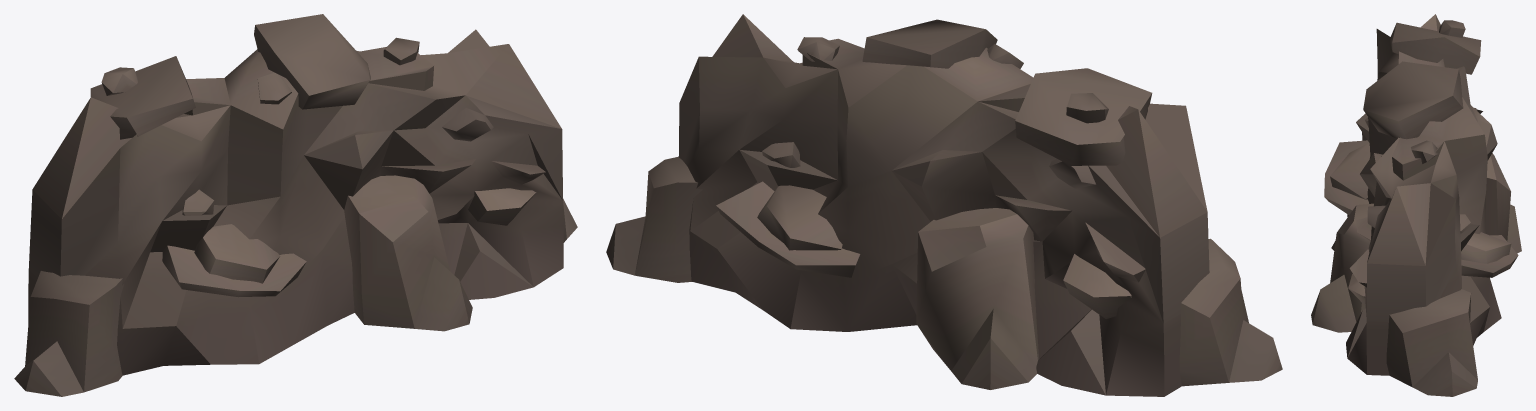
File: rubble_large.glb
3 renders of one model, left to right at view 1: azimuth 30°, elevation 25°; view 2: azimuth 150°, elevation 25°; view 3: azimuth 270°, elevation 25°, orthographic. The views are drawn at different scales.
Parts seen in each view (by area): view 1: rubble_large; view 2: rubble_large; view 3: rubble_large.
Boxes of the visible parts, x1,y1,x2,y2 form: rubble_large: (14, 14, 577, 396); rubble_large: (606, 14, 1282, 396); rubble_large: (1311, 14, 1521, 396).
Bounding box in the file's own units: 8.13 × 3.5 × 3.18.
Materials: 1 (1 with a texture image).
